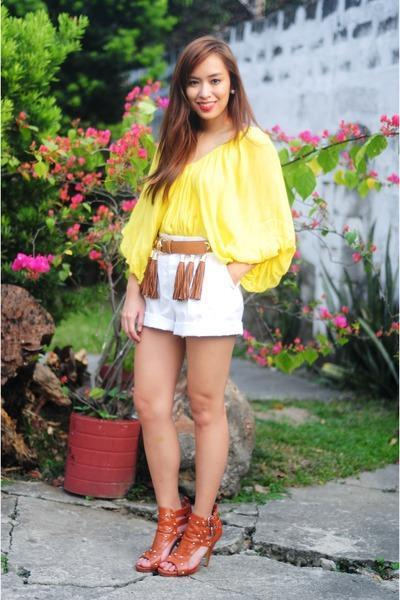jacket: (120, 120, 296, 291)
shoe: (135, 501, 222, 579)
shorts: (144, 234, 243, 335)
